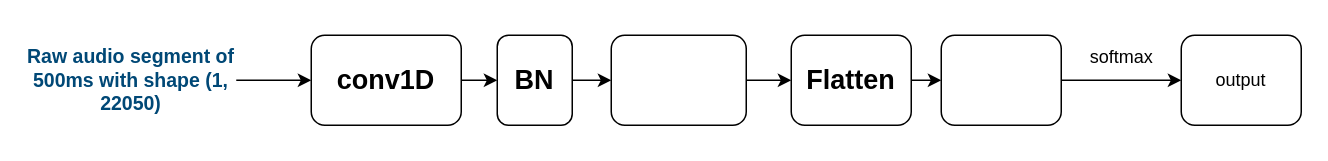
The diagram is 1328 pixels wide and 161 high, and some of its shapes have lost their labels. The shapes that lost their labels are listed below. From the top down, each one's centre as x and y in pixels, then its label:
point 678,79: Dropout
point 1000,79: Dense
